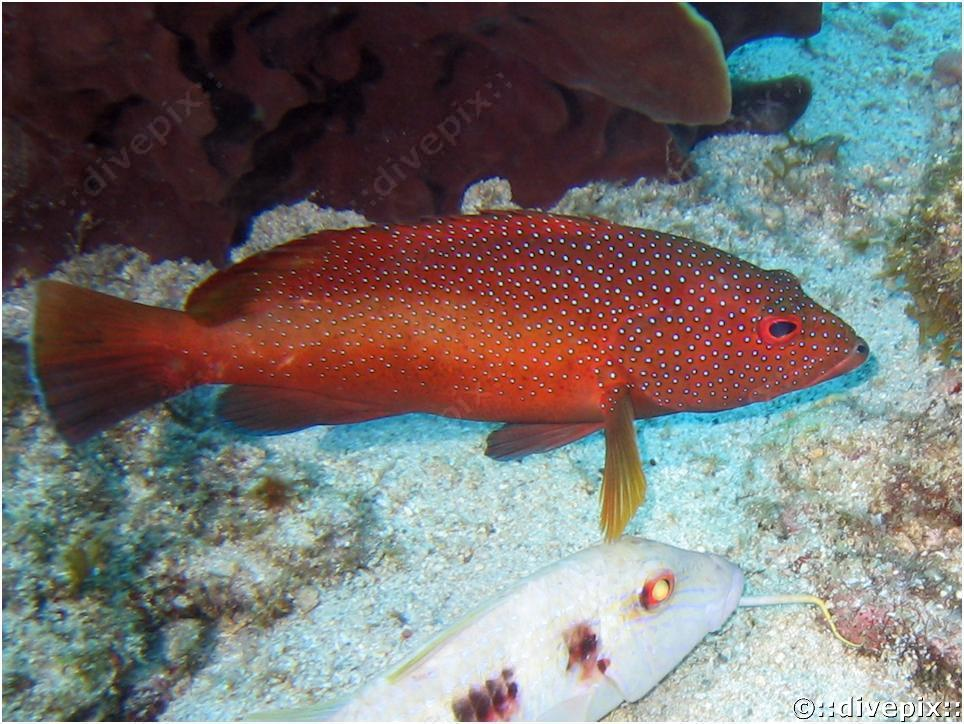Cephalopholis_fulvaw: (20, 192, 911, 527)
